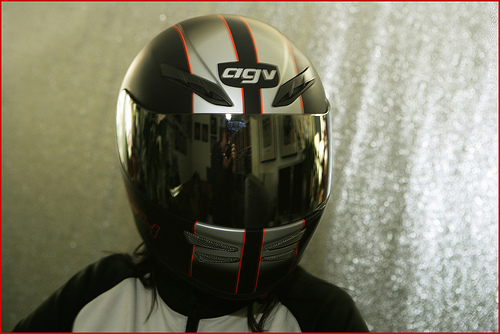helmet: (112, 34, 329, 249)
